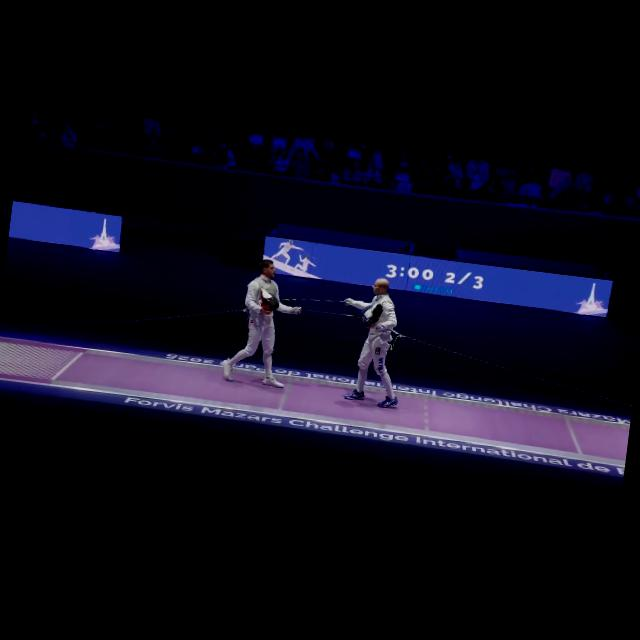blade: (280, 288, 354, 311), (294, 304, 360, 324)
